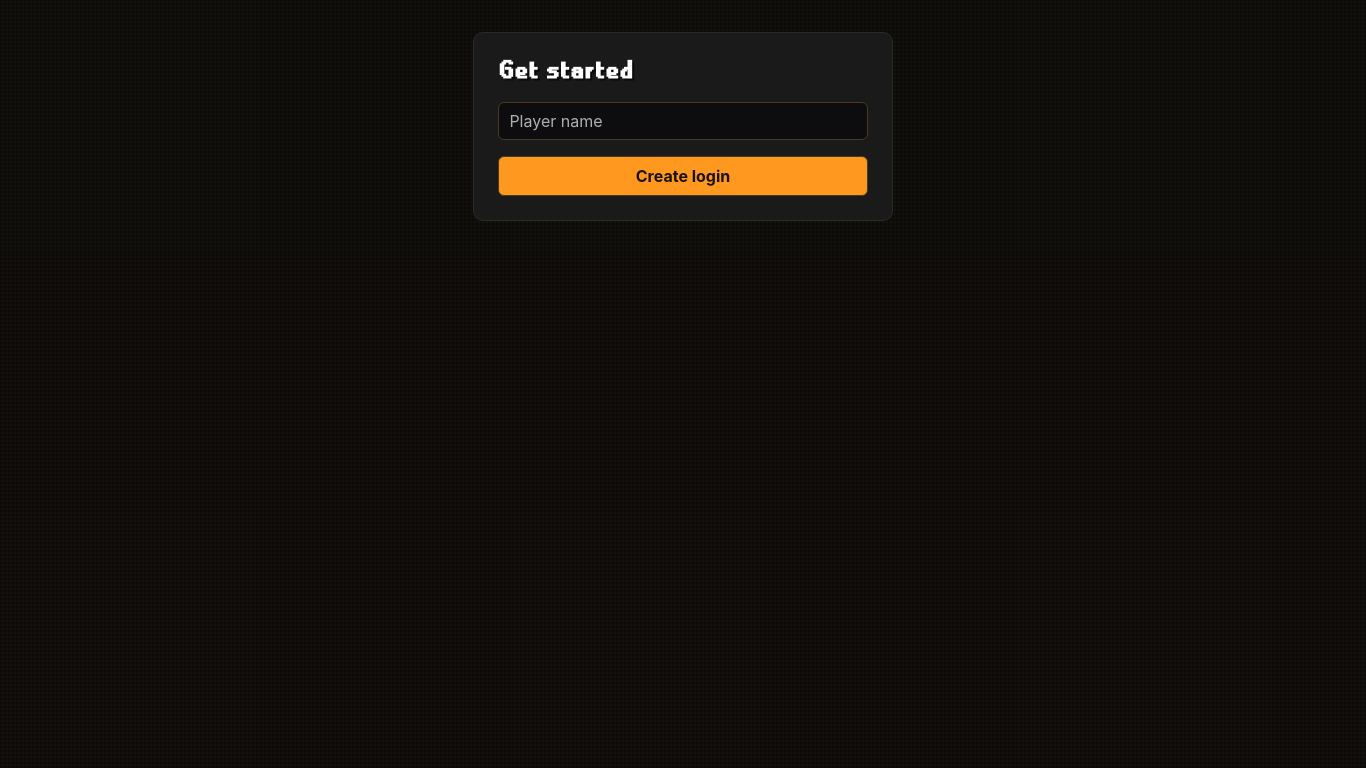
Test: CreateLogin › surfaces a server error message on failure
Type "myname" into the field named "Your OSRS name" at [683, 121], box [498,102,868,140]
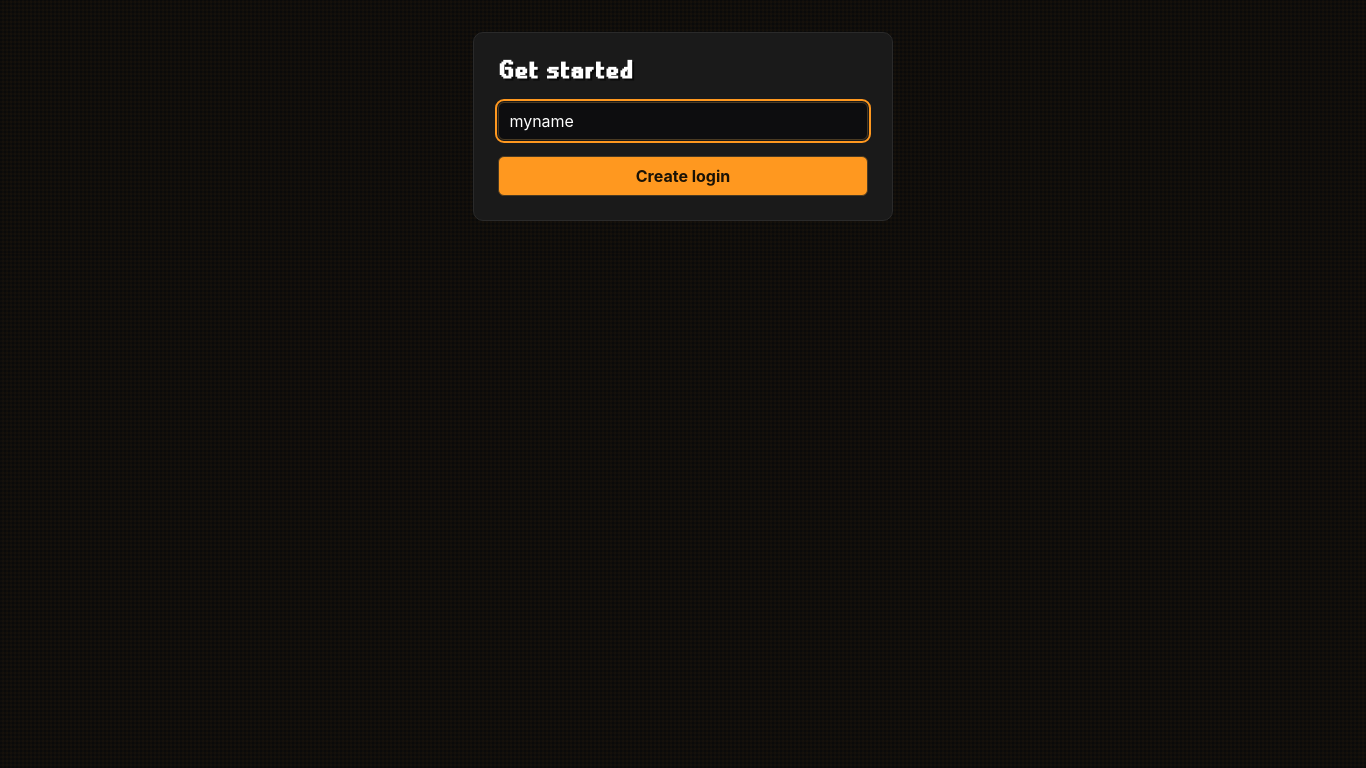
Click the button "Create login" at [683, 176], box [498,156,868,196]
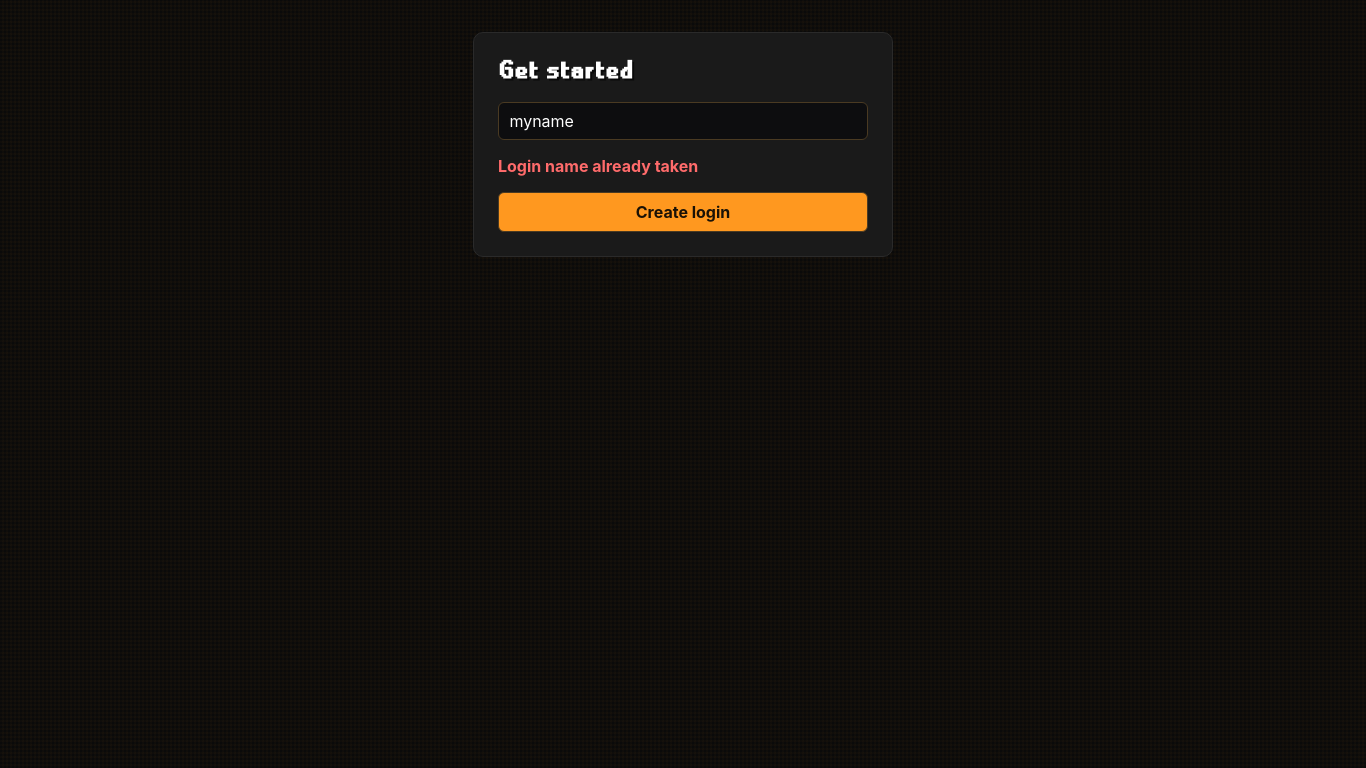
Expected: the text "Login name already taken" is shown, [498,156,698,176]
